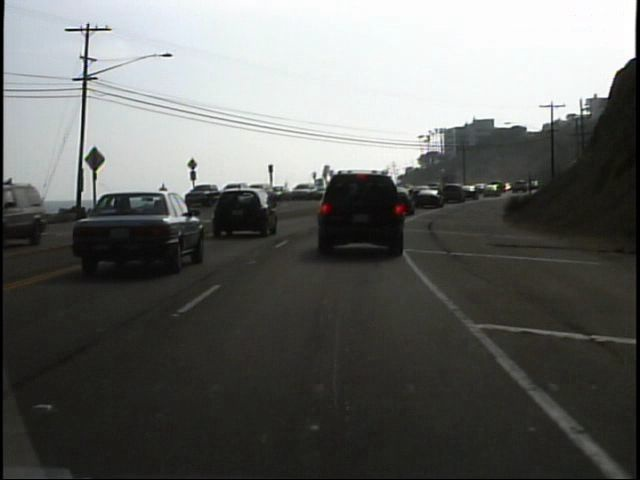person: (156, 180, 172, 211)
